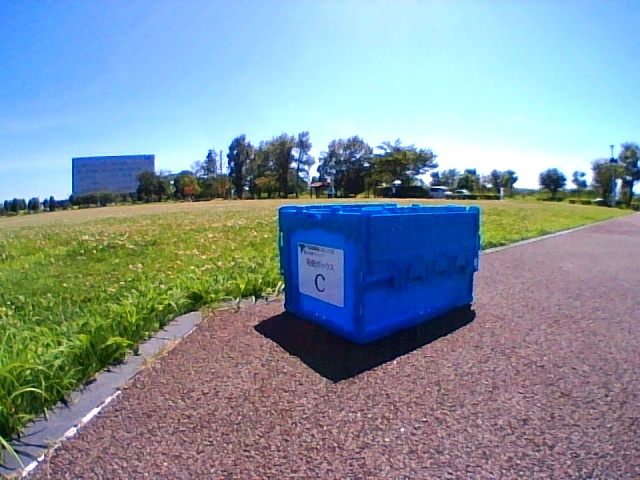blue_box: (279, 203, 481, 344)
tag_c: (307, 252, 334, 296)
